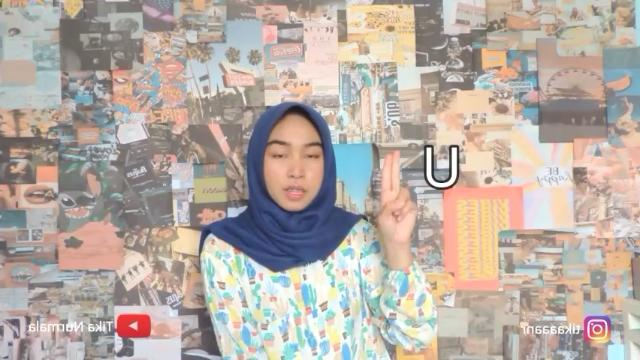U: (374, 150, 418, 248)
